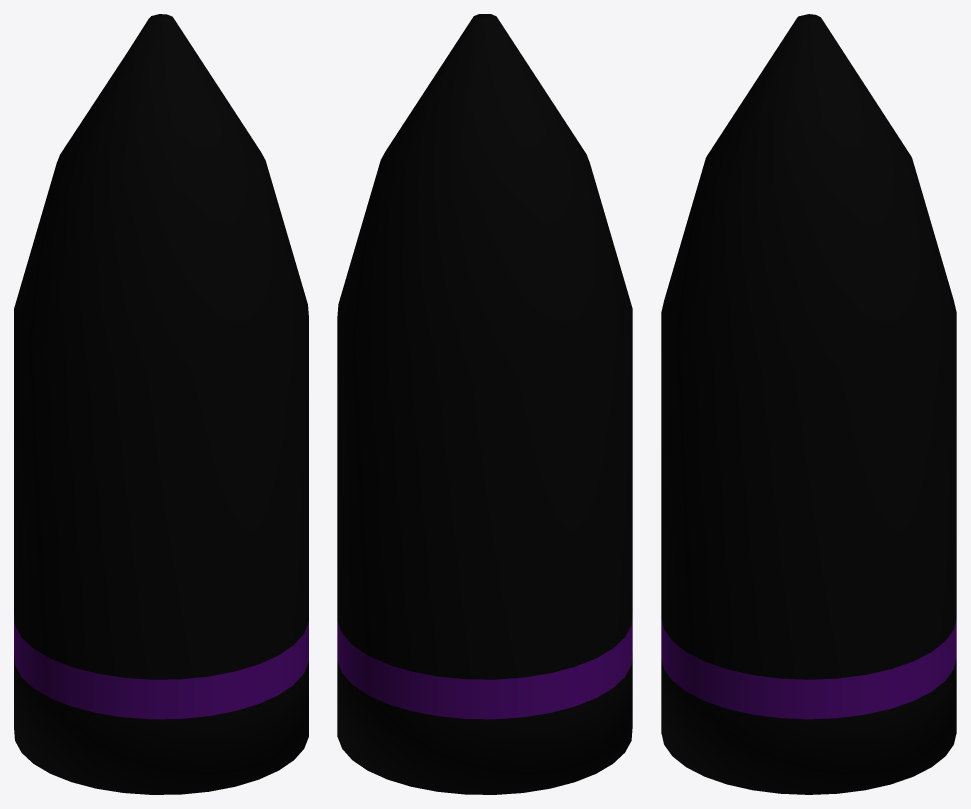
File: Bullet.fbx
3 renders of one model, left to right at view 1: azimuth 30°, elevation 25°; view 2: azimuth 150°, elevation 25°; view 3: azimuth 270°, elevation 25°, orthographic.
Visible parts, largest first — view 1: Cylinder; view 2: Cylinder; view 3: Cylinder.
Boxes of the visible parts, x1,y1,x2,y2 form: Cylinder: [14, 14, 308, 794]; Cylinder: [337, 14, 632, 794]; Cylinder: [661, 14, 956, 794].
Size of the model in its own units: 0.0465 by 0.0465 by 0.1237.
